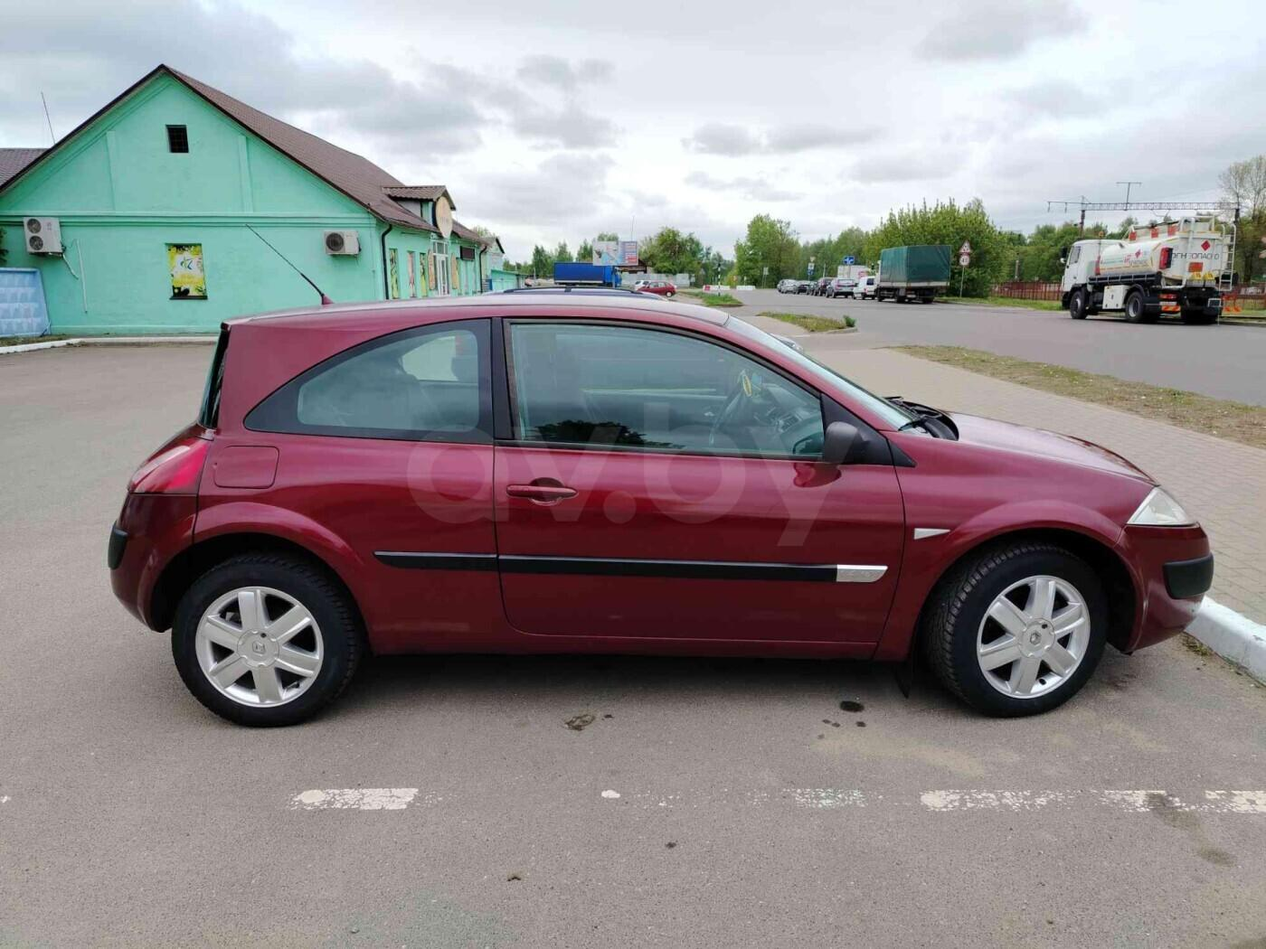Megane_2002-2006: (109, 289, 1216, 728)
